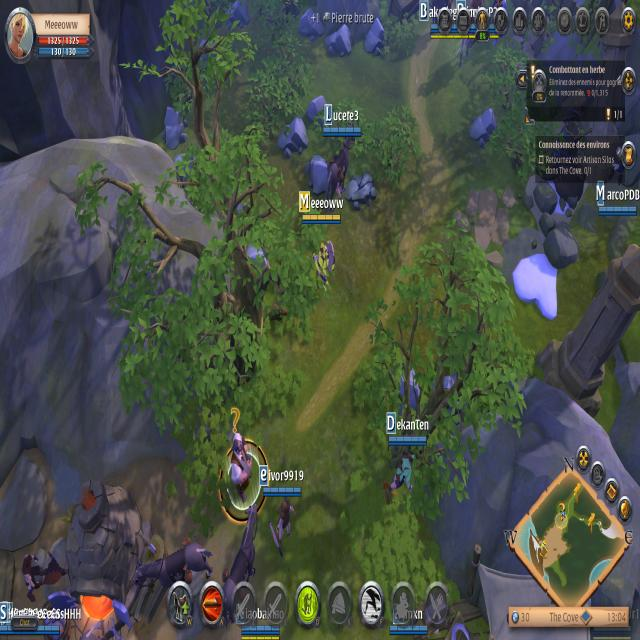broken stone: (342, 167, 378, 216)
stone: (392, 360, 420, 422), (467, 102, 498, 152), (276, 114, 310, 158), (322, 16, 354, 60), (160, 104, 188, 153), (241, 240, 271, 280), (362, 15, 388, 60), (296, 4, 324, 45), (305, 153, 331, 197), (304, 89, 329, 126), (224, 0, 250, 33)
